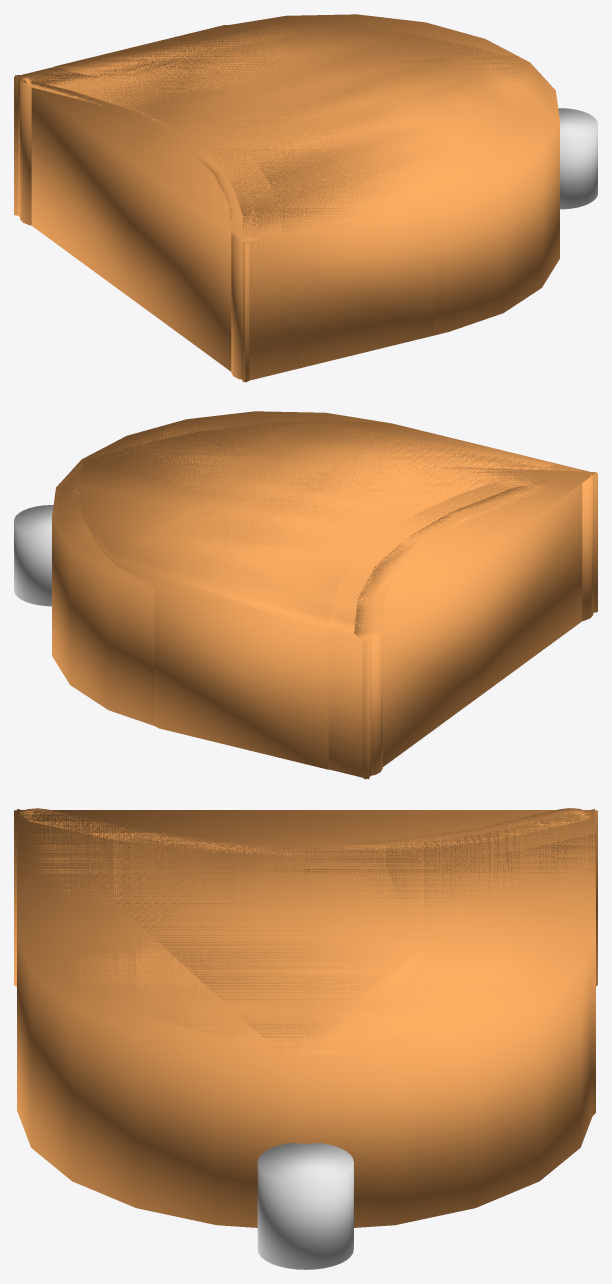
File: NXOR-transformed.glb
The picture shows the model from 3 angles, top to bottom: view 1: azimuth 30°, elevation 25°; view 2: azimuth 150°, elevation 25°; view 3: azimuth 270°, elevation 25°; orthographic projection. The views are drawn at different scales.
Parts seen in each view (by area): view 1: 1, Cot1; view 2: 1, Cot1; view 3: 1, Cot1.
Part boxes in pixels (bbox=[...]): 1: bbox=[14, 14, 559, 382]; Cot1: bbox=[558, 108, 597, 209]; 1: bbox=[52, 411, 597, 779]; Cot1: bbox=[14, 505, 53, 606]; 1: bbox=[14, 808, 597, 1227]; Cot1: bbox=[257, 1143, 353, 1269].
Size of the model in its own units: 3.53 by 1 by 3.03.
